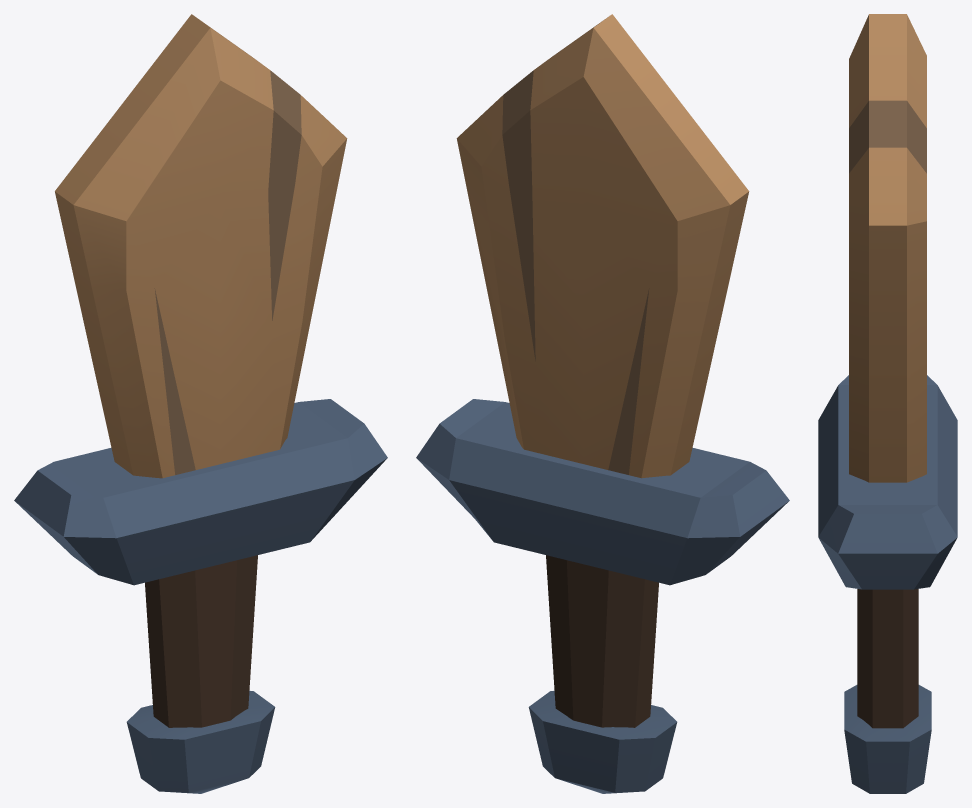
The model's file is Sword_RHand_7.fbx.
The picture shows the model from 3 angles, left to right: view 1: azimuth 30°, elevation 25°; view 2: azimuth 150°, elevation 25°; view 3: azimuth 270°, elevation 25°; orthographic projection.
Visible parts, largest first — view 1: Sword_RHand_7; view 2: Sword_RHand_7; view 3: Sword_RHand_7.
Boxes of the visible parts, x1=… form: Sword_RHand_7: x1=14, y1=14, x2=387, y2=793; Sword_RHand_7: x1=416, y1=14, x2=789, y2=793; Sword_RHand_7: x1=818, y1=14, x2=957, y2=793.
Size of the model in its own units: 29.09 by 66.27 by 10.79.
